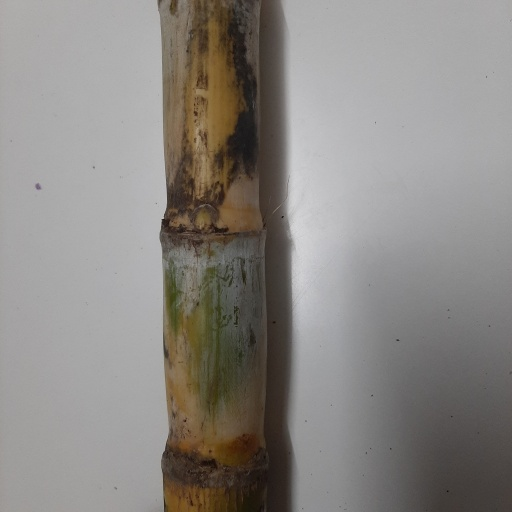Bud: (190, 203, 219, 233)
